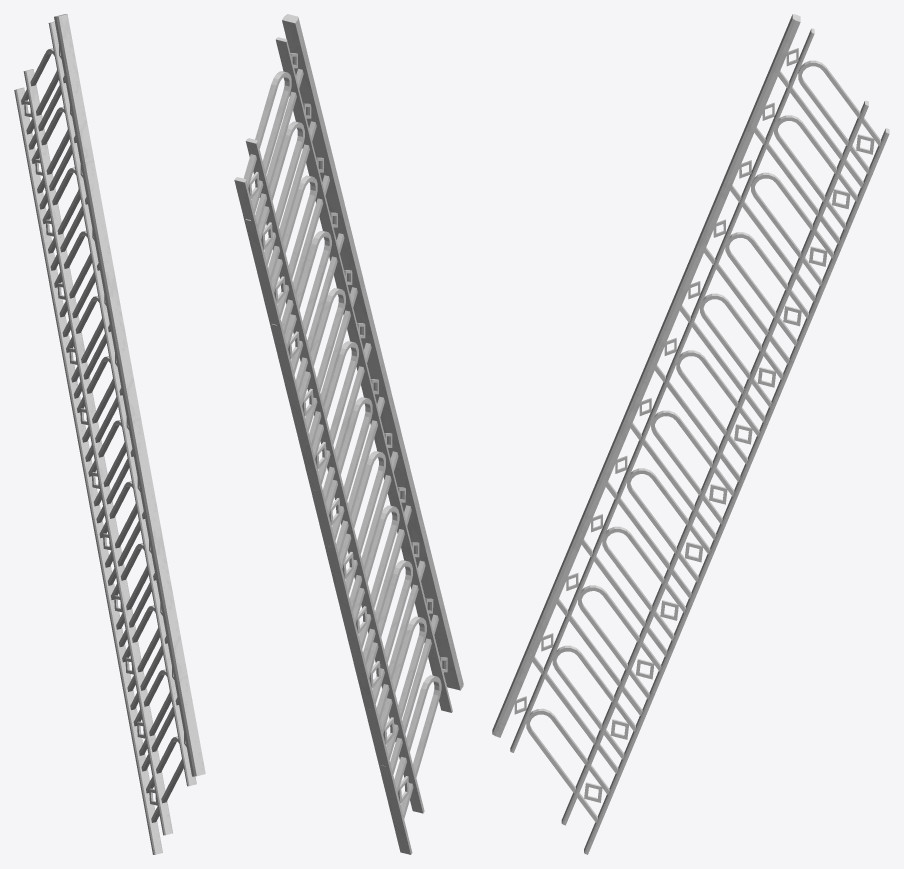
The model's file is StationFrame_D_001.fbx.
3 renders of one model, left to right at view 1: azimuth 30°, elevation 25°; view 2: azimuth 150°, elevation 25°; view 3: azimuth 270°, elevation 25°, orthographic. The views are drawn at different scales.
Visible parts, largest first — view 1: StationFrame_D_001; view 2: StationFrame_D_001; view 3: StationFrame_D_001.
Part boxes in pixels (x1,y1,x2,y2): StationFrame_D_001: (14, 14, 205, 854); StationFrame_D_001: (234, 14, 463, 854); StationFrame_D_001: (492, 14, 889, 854).
Bounding box in the file's own units: 6.01 × 393 × 169.
2 materials, 2 textured.
